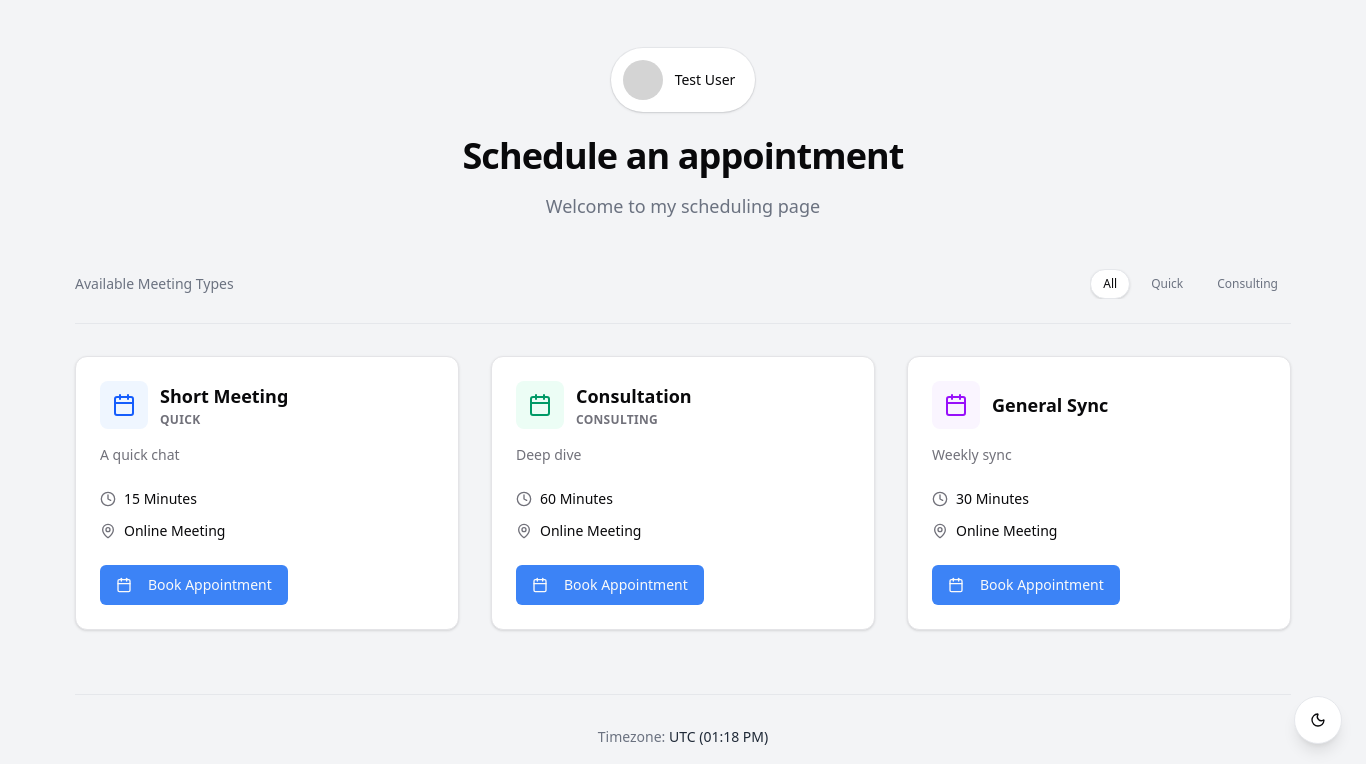
Test: Planning Page › filters events based on tags
// Click "Quick" filter
What coordinates should you click on to do the following:
click the button "Quick"
I would click on:
 (1167, 284)
Its box is [1138,269,1196,299].
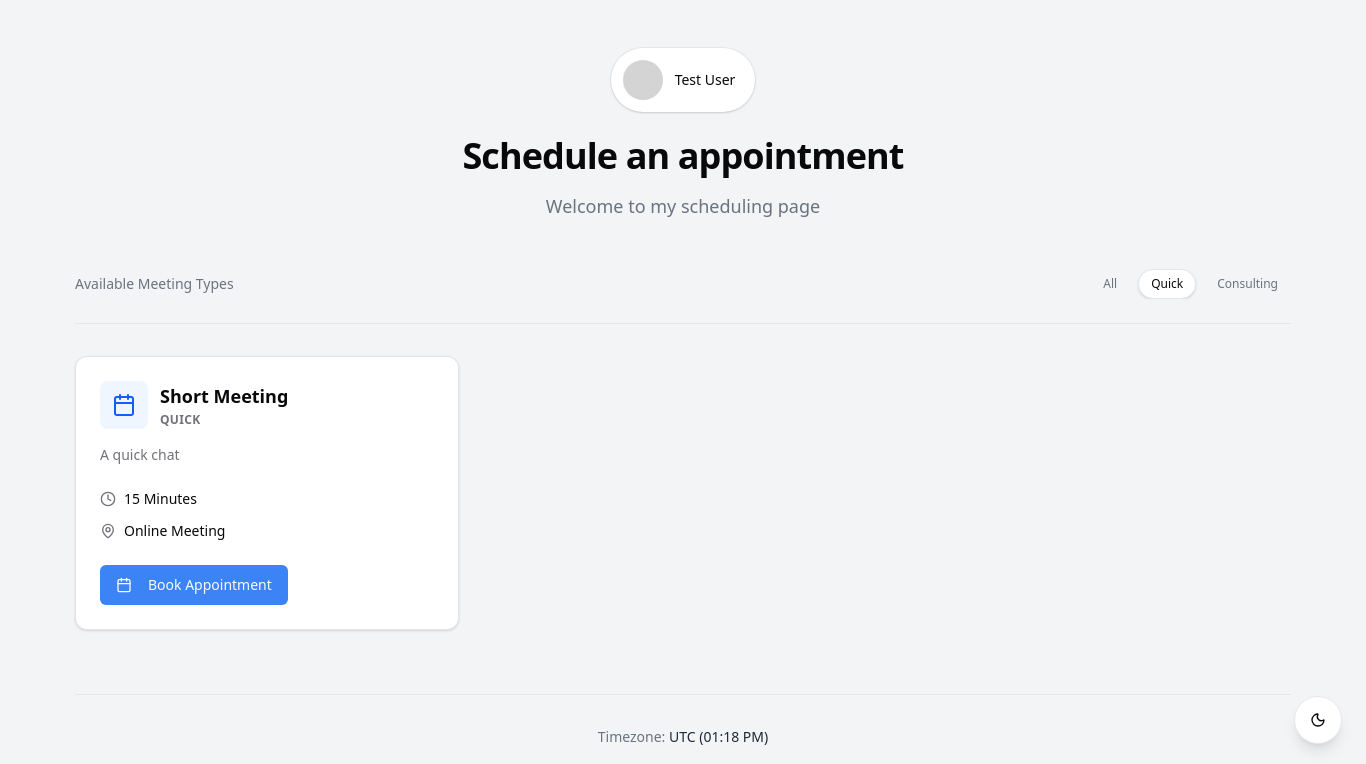
Expected: the heading "Short Meeting" is shown, [160,382,288,410]
Now the button "Consultation" is gone
Now the button "General Sync" is gone
// Click "All" filter
What coordinates should you click on to do the following:
click the button "All"
I would click on:
 (1110, 284)
Its box is [1090,269,1130,299].
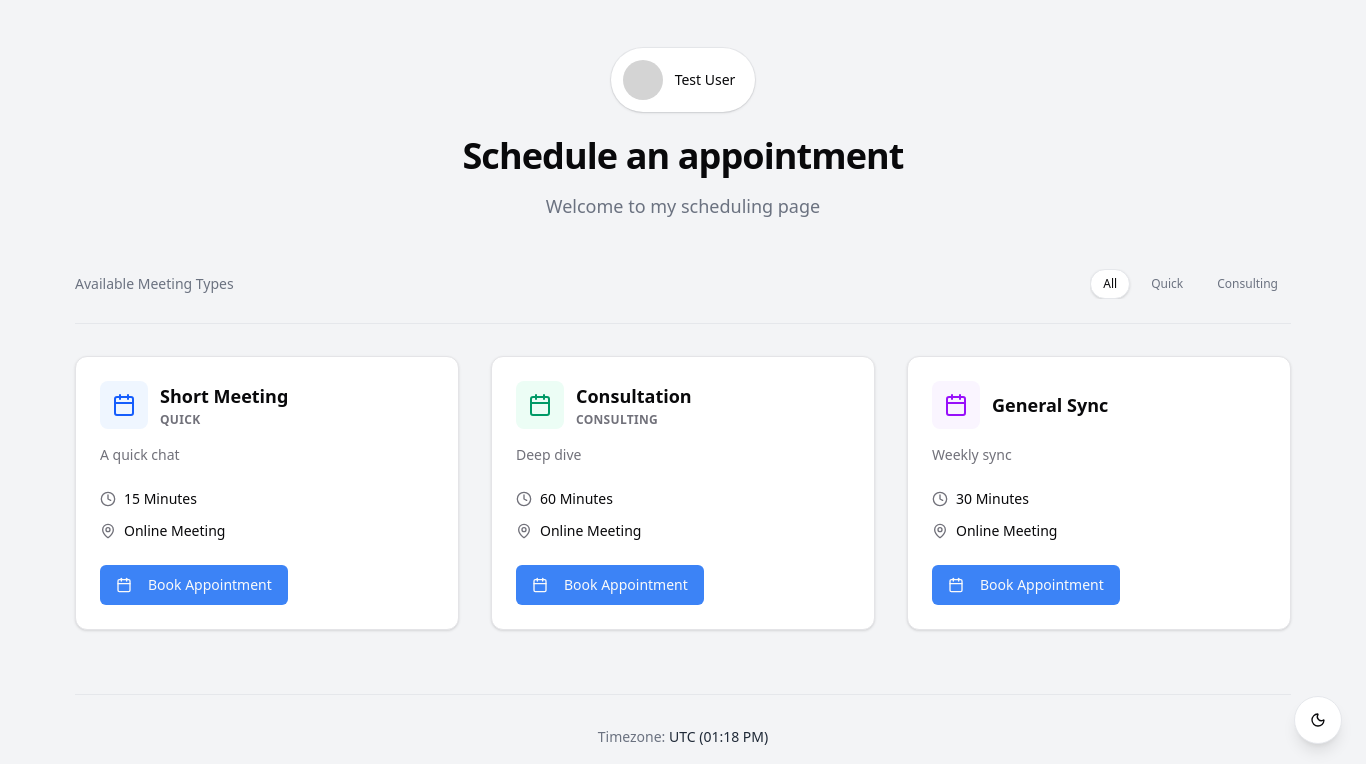
Expected: the heading "Short Meeting" is shown, [160,382,288,410]
Now the heading "Consultation" is shown, box [576,382,692,410]
Now the heading "General Sync" is shown, box [992,391,1108,419]
